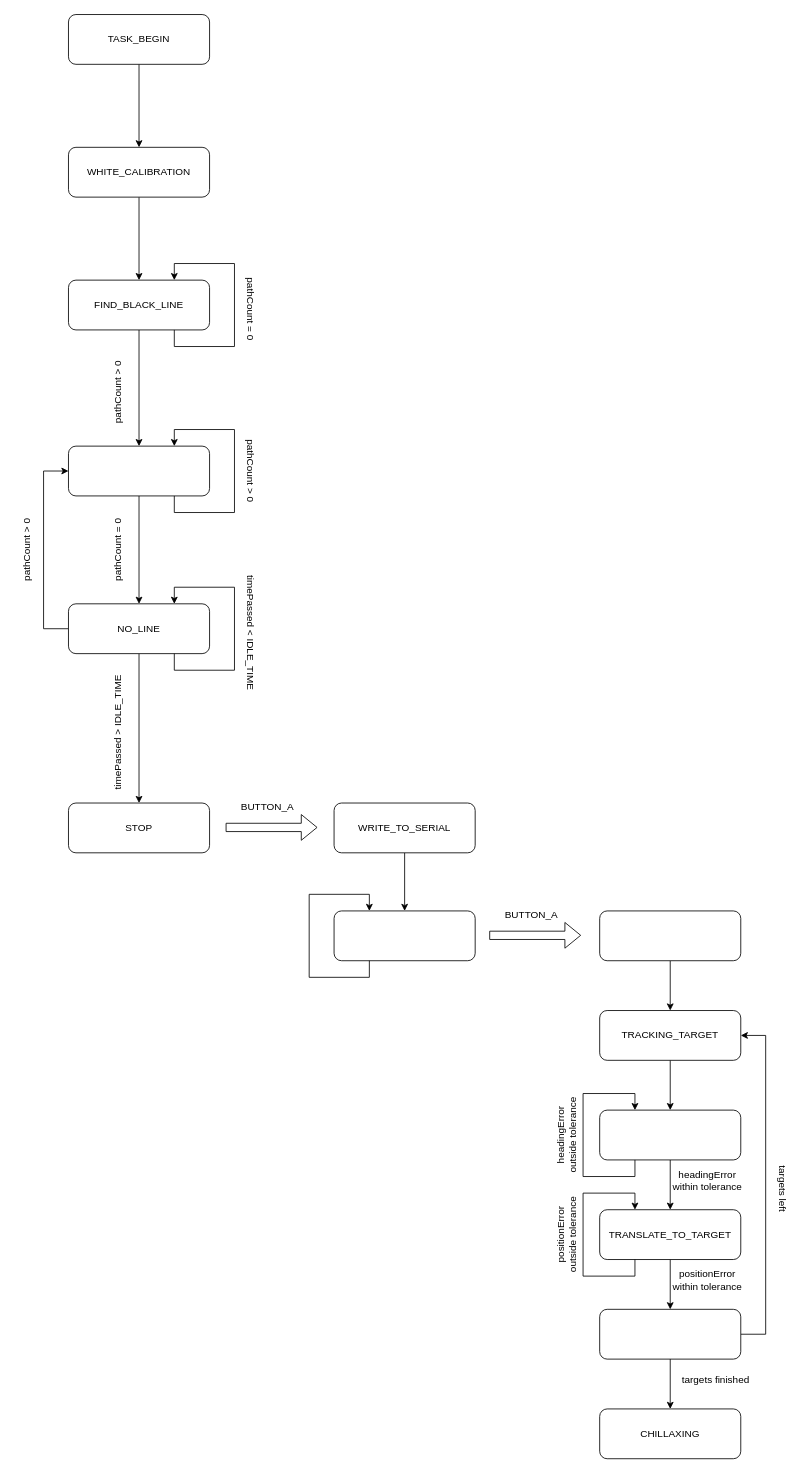
This 808x1473 diagram has some shape labels left out. Each missing label, with the centre of its shape:
"FOLLOWING_LINE" goes at [139,470].
"PRE_TASK_PAUSE" goes at [670,935].
"PRE_TASK_SUSPEND" goes at [404,935].
"ROTATE_TO_TARGET" goes at [670,1134].
"TARGET_REACHED" goes at [670,1333].
